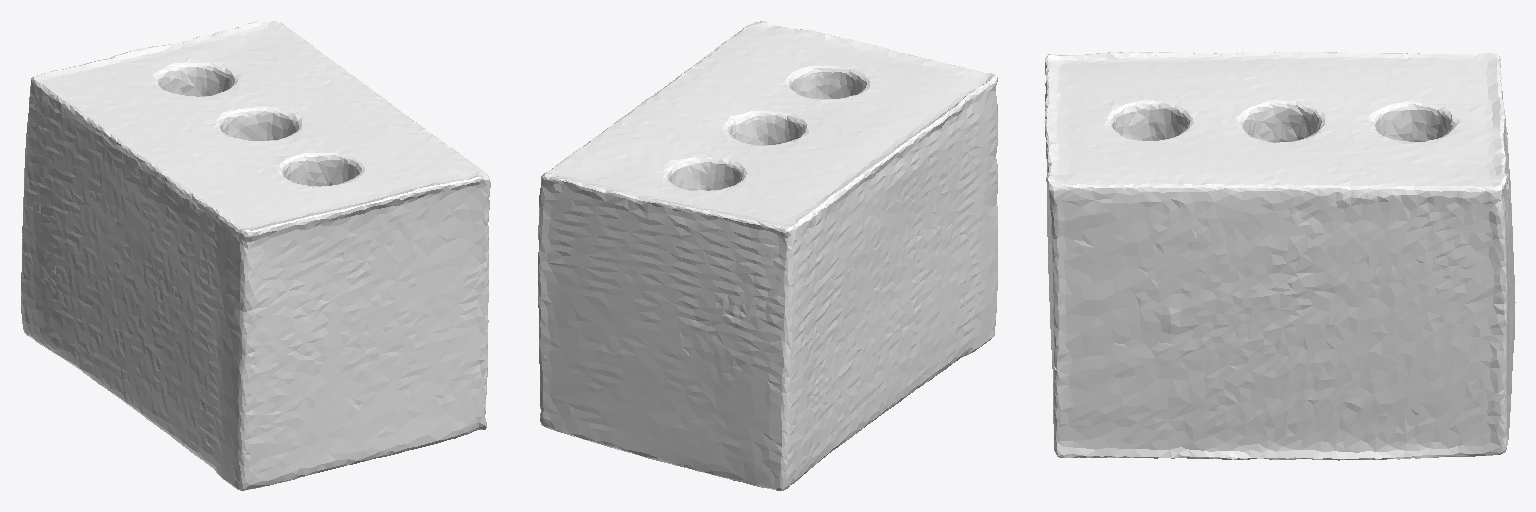
URDF robot description (foam_brick):
<robot name="foam_brick">
    <link name="base_link">
        <visual>
            <origin xyz="0.0 -0.0 -0.0" rpy="0.0 0.0 0.0" />
            <geometry>
                <mesh filename="foam_brick/textured.obj" scale="1 1 1" />
            </geometry>
            <material name="texture">
                <color rgba="1.0 1.0 1.0 1.0" />
            </material>
        </visual>
        <collision>
            <origin xyz="0.0 -0.0 -0.0" rpy="0.0 0.0 0.0" />
            <geometry>
                <mesh filename="foam_brick/textured_coacd_0.stl" scale="1 1 1" />
            </geometry>
        </collision>
        <collision>
            <origin xyz="0.0 -0.0 -0.0" rpy="0.0 0.0 0.0" />
            <geometry>
                <mesh filename="foam_brick/textured_coacd_1.stl" scale="1 1 1" />
            </geometry>
        </collision>
        <collision>
            <origin xyz="0.0 -0.0 -0.0" rpy="0.0 0.0 0.0" />
            <geometry>
                <mesh filename="foam_brick/textured_coacd_2.stl" scale="1 1 1" />
            </geometry>
        </collision>
        <collision>
            <origin xyz="0.0 -0.0 -0.0" rpy="0.0 0.0 0.0" />
            <geometry>
                <mesh filename="foam_brick/textured_coacd_3.stl" scale="1 1 1" />
            </geometry>
        </collision>
        <collision>
            <origin xyz="0.0 -0.0 -0.0" rpy="0.0 0.0 0.0" />
            <geometry>
                <mesh filename="foam_brick/textured_coacd_4.stl" scale="1 1 1" />
            </geometry>
        </collision>
        <inertial>
            <mass value="0.028" />
            <inertia ixx="1e-3" ixy="0.0" ixz="0.0" iyy="1e-3" iyz="0.0" izz="1e-3" />
        </inertial>
    </link>
</robot>

--- Render facts (derived) ---
The picture shows the robot from 3 angles, left to right: view 1: azimuth 30°, elevation 25°; view 2: azimuth 150°, elevation 25°; view 3: azimuth 270°, elevation 25°; orthographic projection.
Model foam_brick with 1 links and 0 joints (none), rooted at base_link, posed all joints at 0.
Visible links, largest first — view 1: base_link; view 2: base_link; view 3: base_link.
Link boxes in pixels (<box>): base_link: <box>21,20,490,490</box>; base_link: <box>538,21,997,490</box>; base_link: <box>1044,52,1515,460</box>.
Bounding box of the posed robot: 0.0519 × 0.0775 × 0.0512 m (x, y, z).
Meshes: 1 distinct files referenced, 1 mesh visuals loaded (1 OBJ).